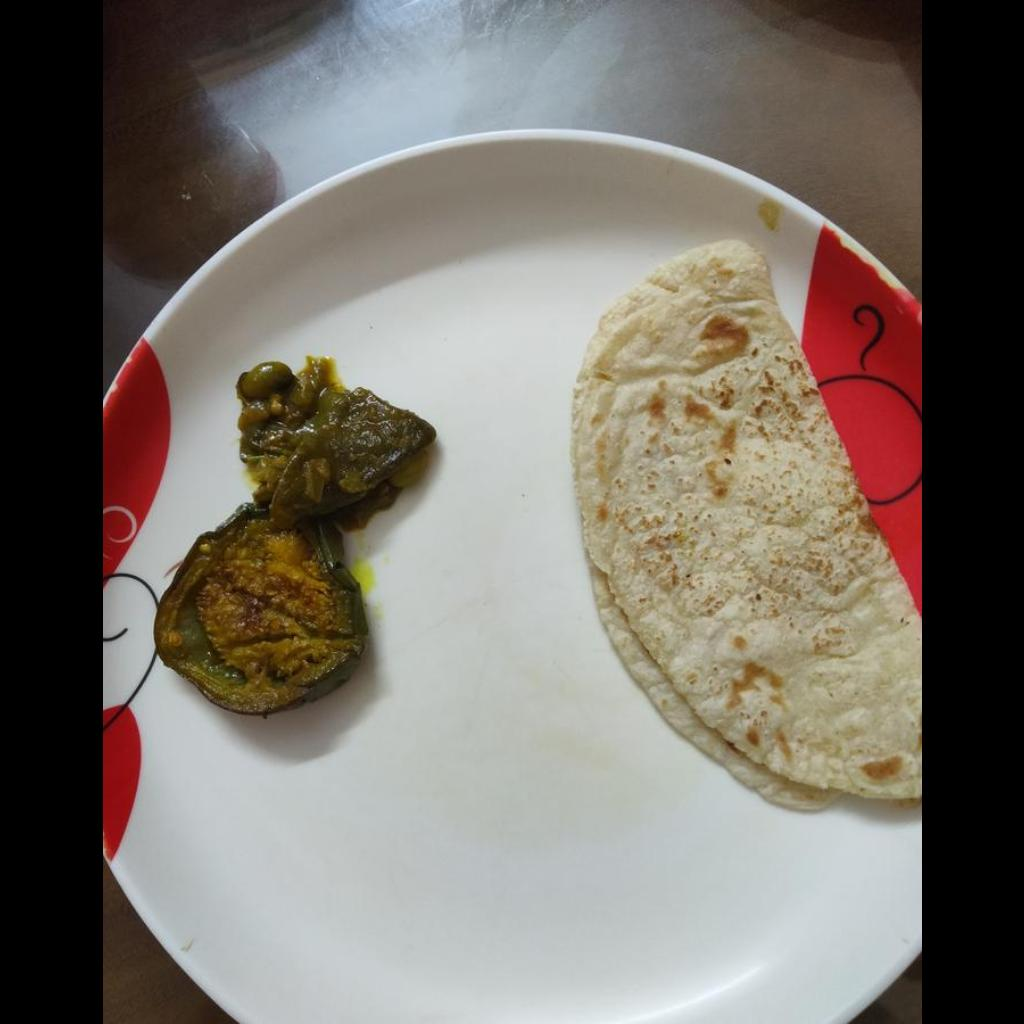begun-vaji: (148, 357, 442, 719)
ruti: (566, 232, 920, 814)
